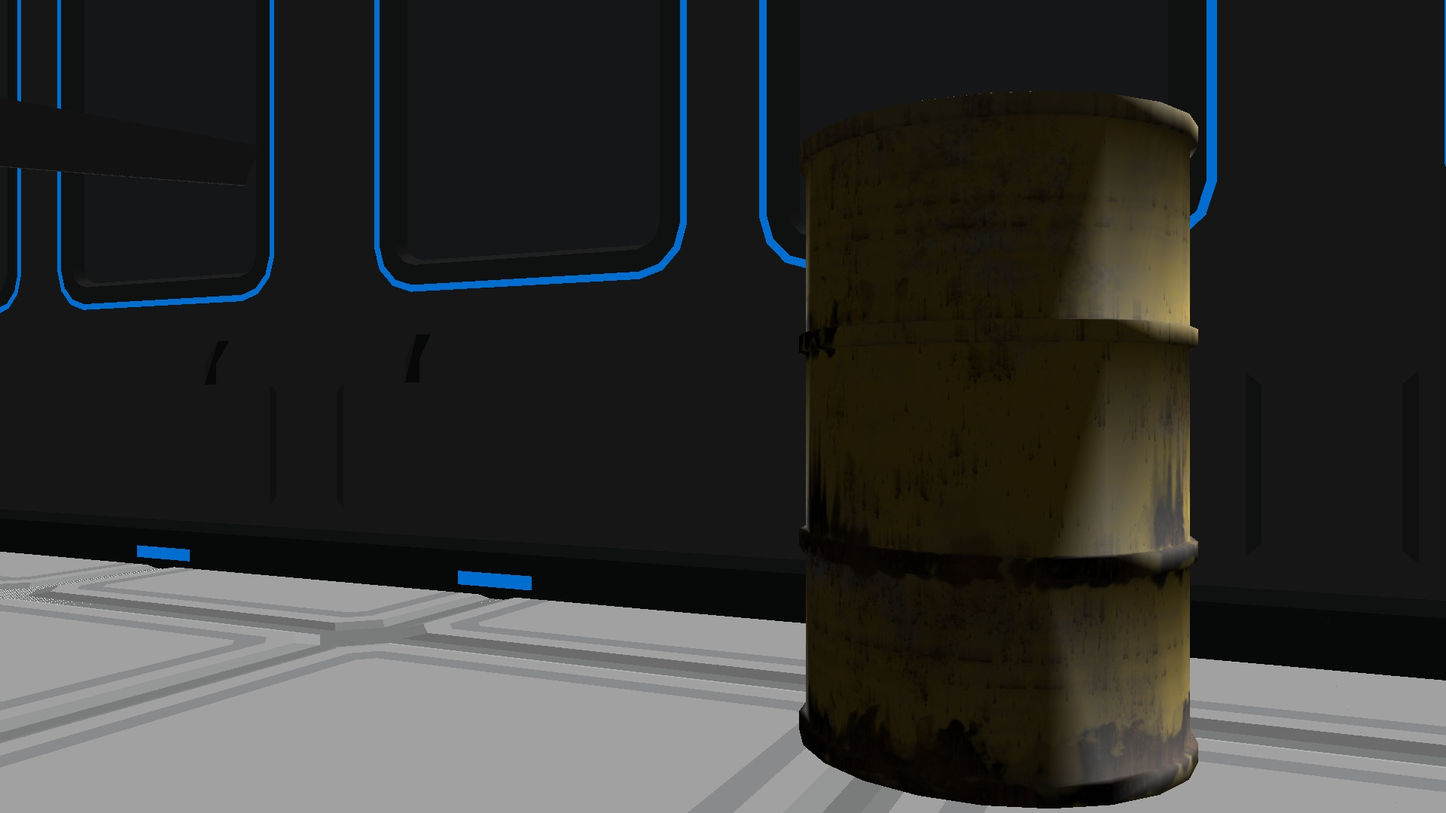toxic barrel: (797, 90, 1200, 809)
